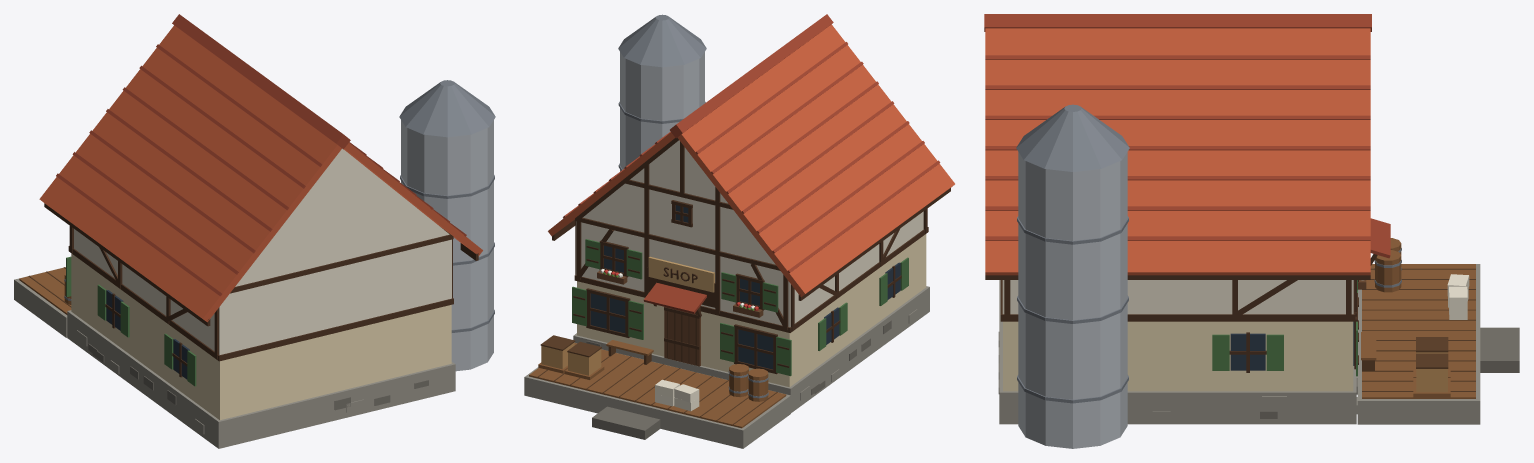
File: building_dealer.glb
3 views of the same model, side by side, from view 1: azimuth 30°, elevation 25°; view 2: azimuth 150°, elevation 25°; view 3: azimuth 270°, elevation 25° (orthographic). The views are drawn at different scales.
Visible parts, largest first — view 1: building_dealer.001; view 2: building_dealer.001; view 3: building_dealer.001.
Part boxes in pixels (x1,y1,x2,y2): building_dealer.001: (14, 14, 495, 448); building_dealer.001: (524, 14, 954, 448); building_dealer.001: (984, 14, 1519, 448).
Bounding box in the file's own units: 10.06 × 8.63 × 12.22.
1 material, 1 textured.
